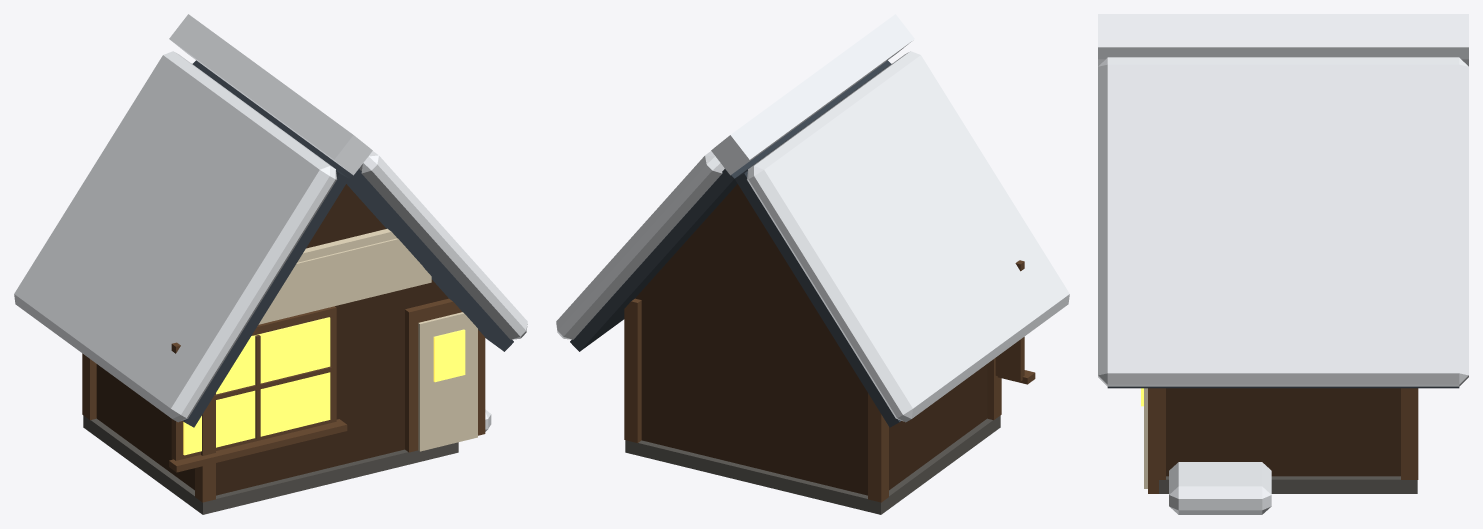
Rendered from warming-hut-adirondack.glb.
The picture shows the model from 3 angles, left to right: view 1: azimuth 30°, elevation 25°; view 2: azimuth 150°, elevation 25°; view 3: azimuth 270°, elevation 25°; orthographic projection. The views are drawn at different scales.
Parts seen in each view (by area): view 1: warming-hut-adirondack; view 2: warming-hut-adirondack; view 3: warming-hut-adirondack.
Boxes of the visible parts, left/top/right/bottom form: warming-hut-adirondack: left=14, top=14, right=527, bottom=514; warming-hut-adirondack: left=556, top=14, right=1069, bottom=514; warming-hut-adirondack: left=1098, top=14, right=1468, bottom=514.
Size of the model in its own units: 5.86 by 5.74 by 4.7.
